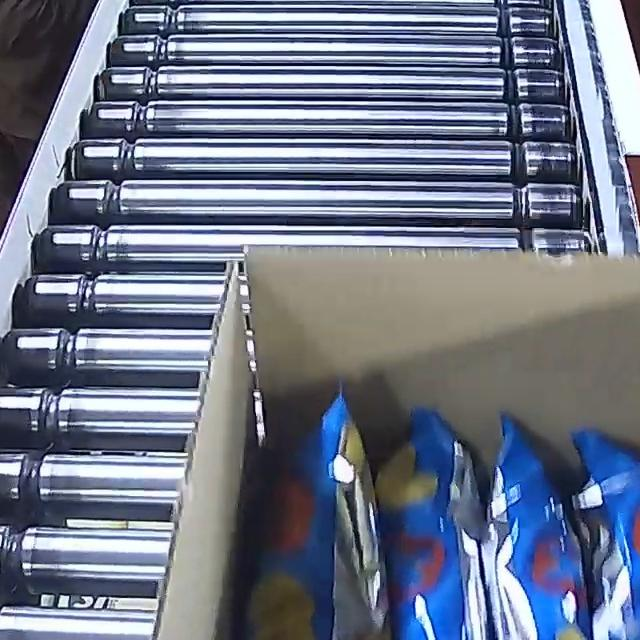paprika: (219, 382, 640, 640)
